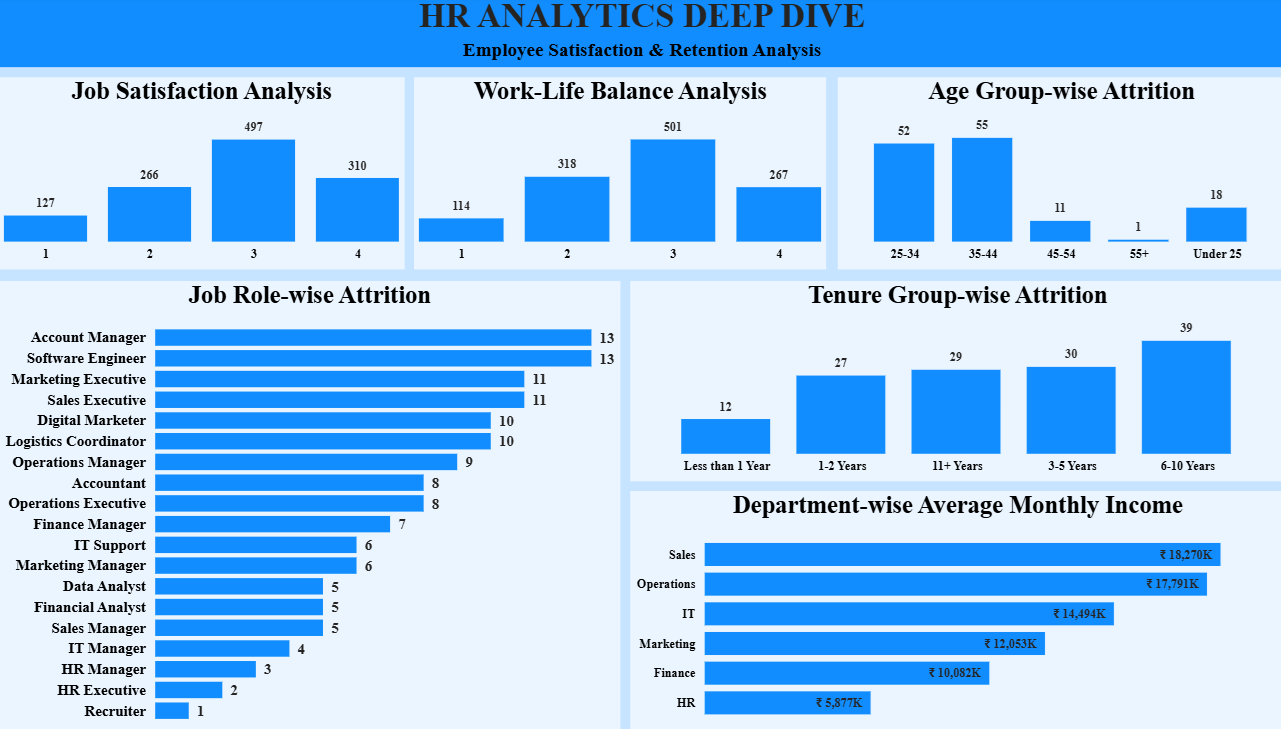

What the dashboard file says about the page in this screenshot:
{"tool":"powerbi","page":{"name":"HR Analytics Deep Dive","canvas":[1280,720],"ordinal":1},"visuals":[{"type":"clusteredColumnChart","title":"Job Satisfaction Analysis","fields":{"Category":["Table1 (2).Job Satisfaction"],"Y":["CountNonNull(Table1 (2).Employee ID)"]},"box":[9.6,79.6,396.6,188],"z":0},{"type":"clusteredColumnChart","title":"Work-Life Balance Analysis","fields":{"Category":["Table1 (2).Work Life Balance"],"Y":["CountNonNull(Table1 (2).Employee ID)"]},"box":[415.8,79.6,403.4,188],"z":1000},{"type":"textbox","title":"HR ANALYTICS DEEP DIVE","box":[9.6,0,1258.3,70],"z":2000},{"type":"clusteredBarChart","title":"Job Role-wise Attrition","fields":{"Y":["CountNonNull(Table1 (2).Employee ID)"],"Category":["Table1 (2).JobRole"]},"box":[9.6,278.6,607.9,441.9],"z":3000},{"type":"clusteredColumnChart","title":"Age Group-wise Attrition","fields":{"Y":["CountNonNull(Table1 (2).Employee ID)"],"Category":["Table1 (2).Age Group"]},"box":[830.2,79.6,437.7,188],"z":4000},{"type":"clusteredColumnChart","title":"Tenure Group-wise Attrition","fields":{"Y":["CountNonNull(Table1 (2).Employee ID)"],"Category":["Table1 (2).Tenure Group"]},"box":[627.1,278.6,640.8,196.2],"z":5000},{"type":"clusteredBarChart","title":"Department-wise Average Monthly Income","fields":{"Category":["Table1 (2).Department"],"Y":["Sum(Table1 (2).Monthly Income INR)"]},"box":[627.1,484.4,640.8,236],"z":6000}]}

Visuals, with their boxes in screenshot pixels (x1, y1, x2, y2), scaled from the page's 1280x720 canvas onto the 1281x729 screenshot:
"Job Satisfaction Analysis" clusteredColumnChart: select_region(10, 81, 407, 271)
"Work-Life Balance Analysis" clusteredColumnChart: select_region(416, 81, 820, 271)
"HR ANALYTICS DEEP DIVE" textbox: select_region(10, 0, 1269, 71)
"Job Role-wise Attrition" clusteredBarChart: select_region(10, 282, 618, 728)
"Age Group-wise Attrition" clusteredColumnChart: select_region(831, 81, 1269, 271)
"Tenure Group-wise Attrition" clusteredColumnChart: select_region(628, 282, 1269, 481)
"Department-wise Average Monthly Income" clusteredBarChart: select_region(628, 490, 1269, 728)
